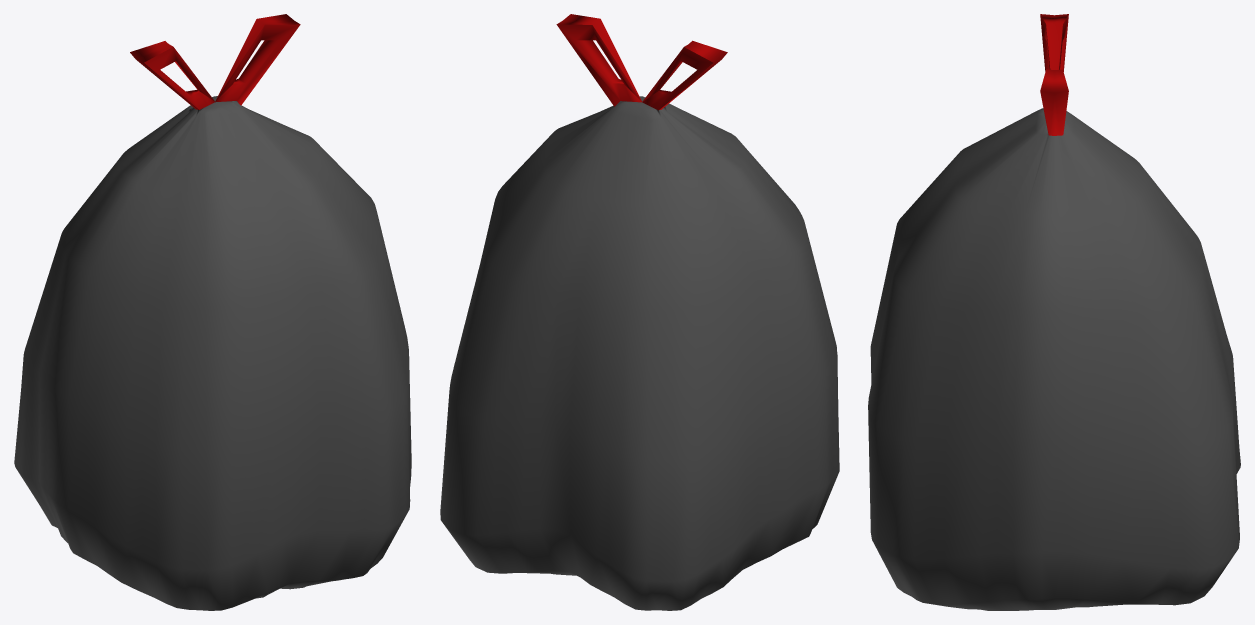
The model's file is BolsaN2.fbx.
3 renders of one model, left to right at view 1: azimuth 30°, elevation 25°; view 2: azimuth 150°, elevation 25°; view 3: azimuth 270°, elevation 25°, orthographic.
Parts seen in each view (by area): view 1: pCylinder1; view 2: pCylinder1; view 3: pCylinder1.
Boxes of the visible parts, x1,y1,x2,y2 form: pCylinder1: [14, 14, 411, 610]; pCylinder1: [440, 14, 839, 610]; pCylinder1: [868, 14, 1240, 610].
Bounding box in the file's own units: 2.13 × 3.12 × 2.
